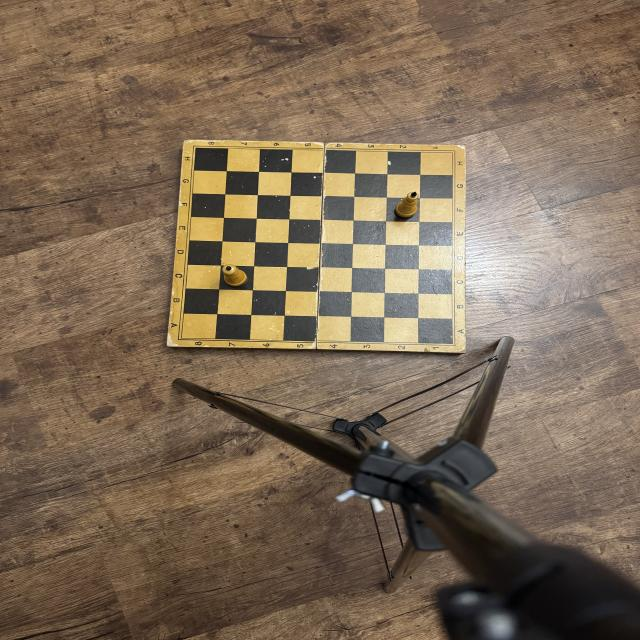white-king: (395, 191, 419, 218)
white-queen: (222, 264, 248, 287)
